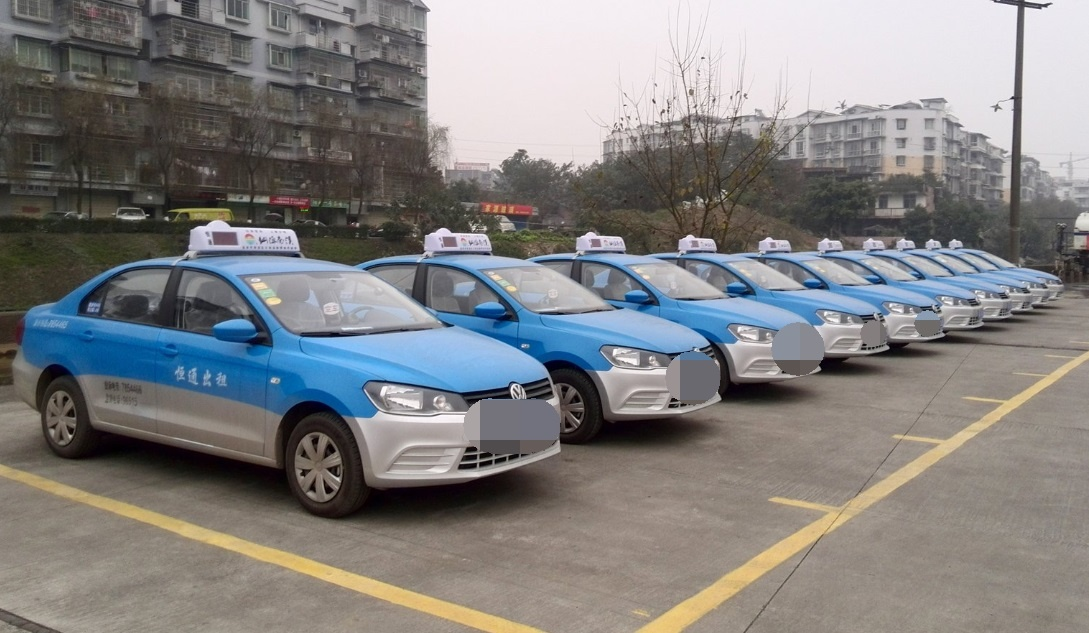taxi: (18, 219, 555, 502)
